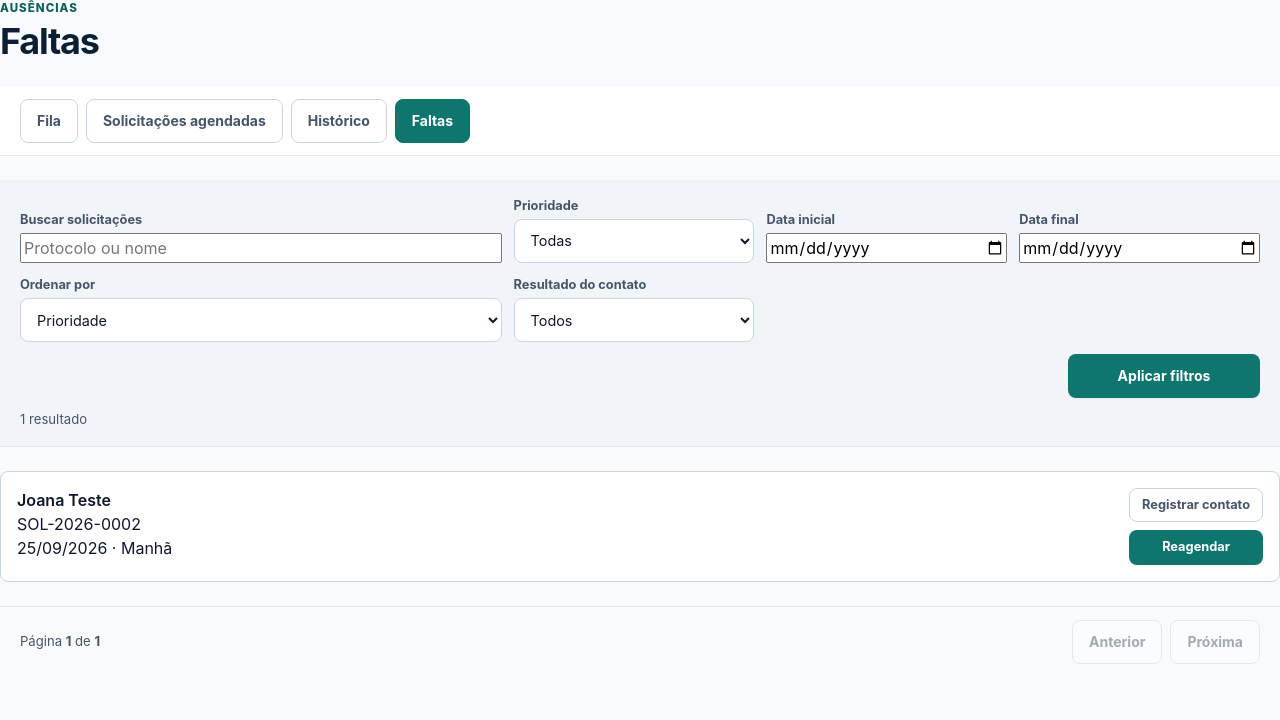
Test: Aba de Faltas › abre o reagendamento em camada de diálogo sobre a lista
Click the button "Reagendar".
click(1196, 547)  # box [1129, 530, 1263, 564]
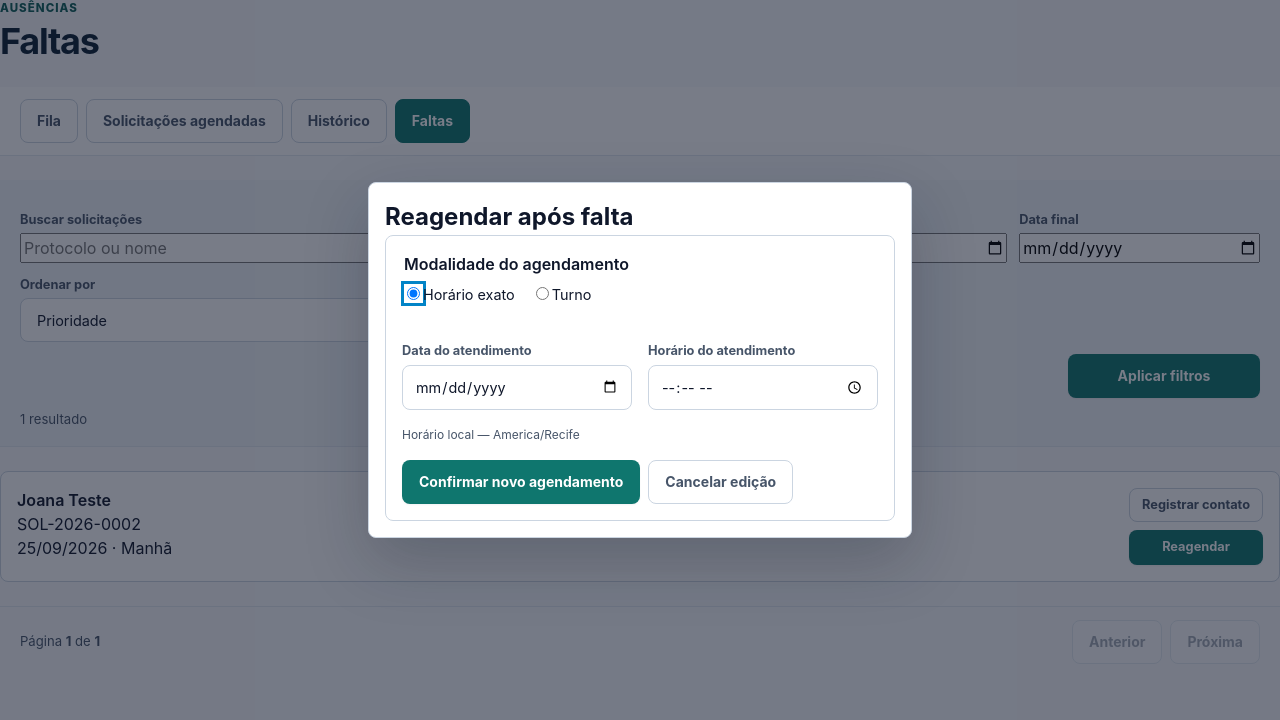
Expected: the button "Confirmar novo agendamento" is shown, [402, 460, 640, 504]
Press Escape
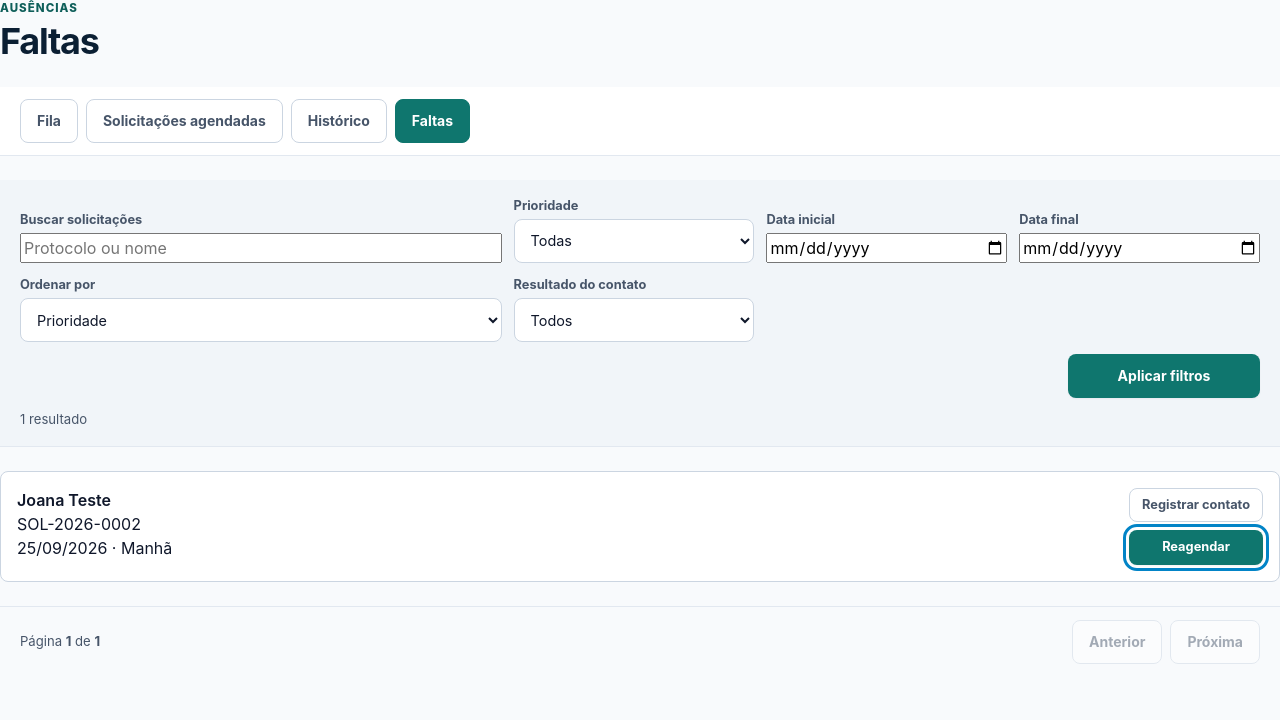
Expected: the heading "Reagendar após falta" is gone
